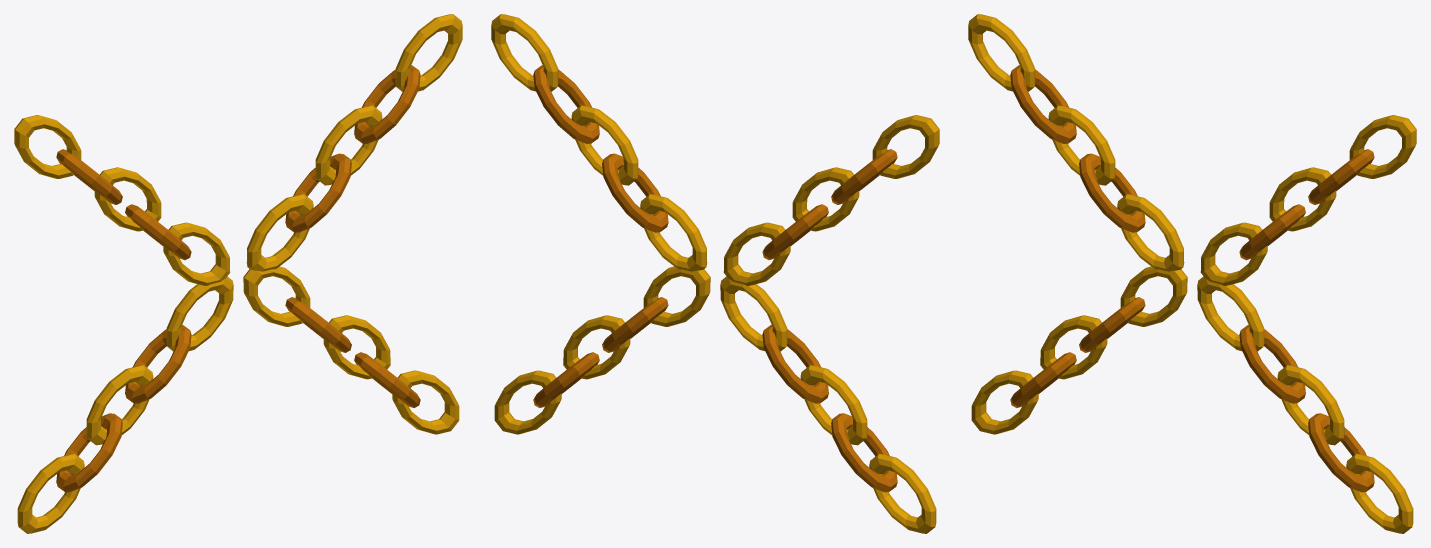
File: Chains.fbx
3 renders of one model, left to right at view 1: azimuth 30°, elevation 25°; view 2: azimuth 150°, elevation 25°; view 3: azimuth 330°, elevation 25°, orthographic.
Parts seen in each view (by area): view 1: Chain_5, Chain_10, Chain_6, Chain_14, Chain_8, Chain_12, Chain_13, Chain_9, Chain_11, Chain_7, Chain_15, Chain (+8 smaller); view 2: Chain_5, Chain_10, Chain_6, Chain_14, Chain_8, Chain_12, Chain_13, Chain_9, Chain_11, Chain_7, Chain_15, Chain (+8 smaller); view 3: Chain_15, Chain, Chain_19, Chain_4, Chain_17, Chain_3, Chain_2, Chain_16, Chain_1, Chain_18, Chain_5, Chain_10 (+8 smaller).
Part boxes in pixels (x1,y1,x2,y2): Chain_5: (395, 14, 462, 91); Chain_10: (17, 454, 84, 533); Chain_6: (246, 194, 313, 271); Chain_14: (166, 276, 233, 351); Chain_8: (315, 105, 382, 185); Chain_12: (86, 365, 153, 445); Chain_13: (125, 325, 191, 403); Chain_9: (354, 65, 420, 143); Chain_11: (56, 413, 122, 492); Chain_7: (285, 153, 351, 232); Chain_15: (14, 115, 81, 178); Chain: (392, 370, 459, 434); Chain_5: (491, 14, 558, 91); Chain_10: (869, 454, 936, 533); Chain_6: (640, 194, 707, 271); Chain_14: (720, 276, 787, 351); Chain_8: (571, 105, 638, 185); Chain_12: (800, 365, 867, 445); Chain_13: (762, 325, 828, 403); Chain_9: (533, 65, 599, 143); Chain_11: (831, 413, 897, 492); Chain_7: (602, 153, 668, 232); Chain_15: (872, 115, 939, 178); Chain: (494, 370, 561, 434); Chain_15: (968, 14, 1035, 91); Chain: (1346, 454, 1413, 533); Chain_19: (1117, 194, 1184, 271); Chain_4: (1197, 276, 1264, 351); Chain_17: (1048, 105, 1115, 185); Chain_3: (1277, 365, 1344, 445); Chain_2: (1239, 325, 1305, 403); Chain_16: (1010, 65, 1076, 143); Chain_1: (1308, 413, 1374, 492); Chain_18: (1079, 153, 1145, 232); Chain_5: (1349, 115, 1416, 178); Chain_10: (971, 370, 1038, 434).
Size of the model in its own units: 244 by 217 by 25.
2 materials, 2 textured.
